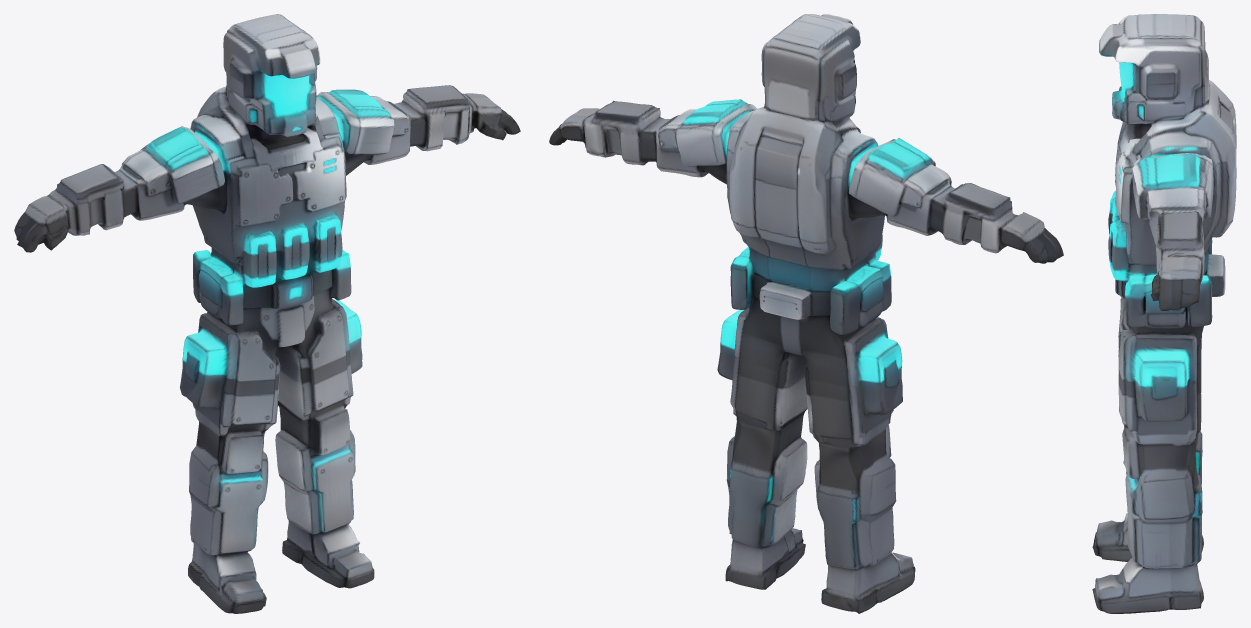
The model's file is character_silver.fbx.
The picture shows the model from 3 angles, left to right: view 1: azimuth 30°, elevation 25°; view 2: azimuth 150°, elevation 25°; view 3: azimuth 270°, elevation 25°; orthographic projection.
Parts seen in each view (by area): view 1: model; view 2: model; view 3: model.
Part boxes in pixels (box(x1,y1,x2,y2)): model: box(14, 14, 520, 613); model: box(549, 14, 1063, 613); model: box(1092, 14, 1236, 613).
Size of the model in its own units: 178 by 190 by 44.39.
